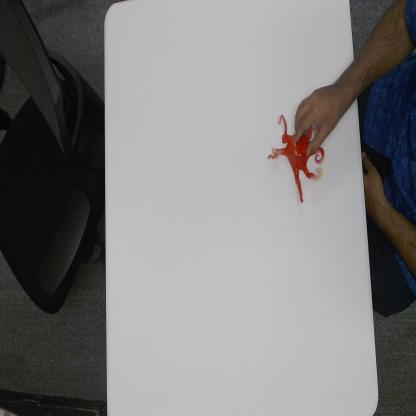Hand: (291, 79, 348, 159)
Octopus: (267, 112, 327, 209)
